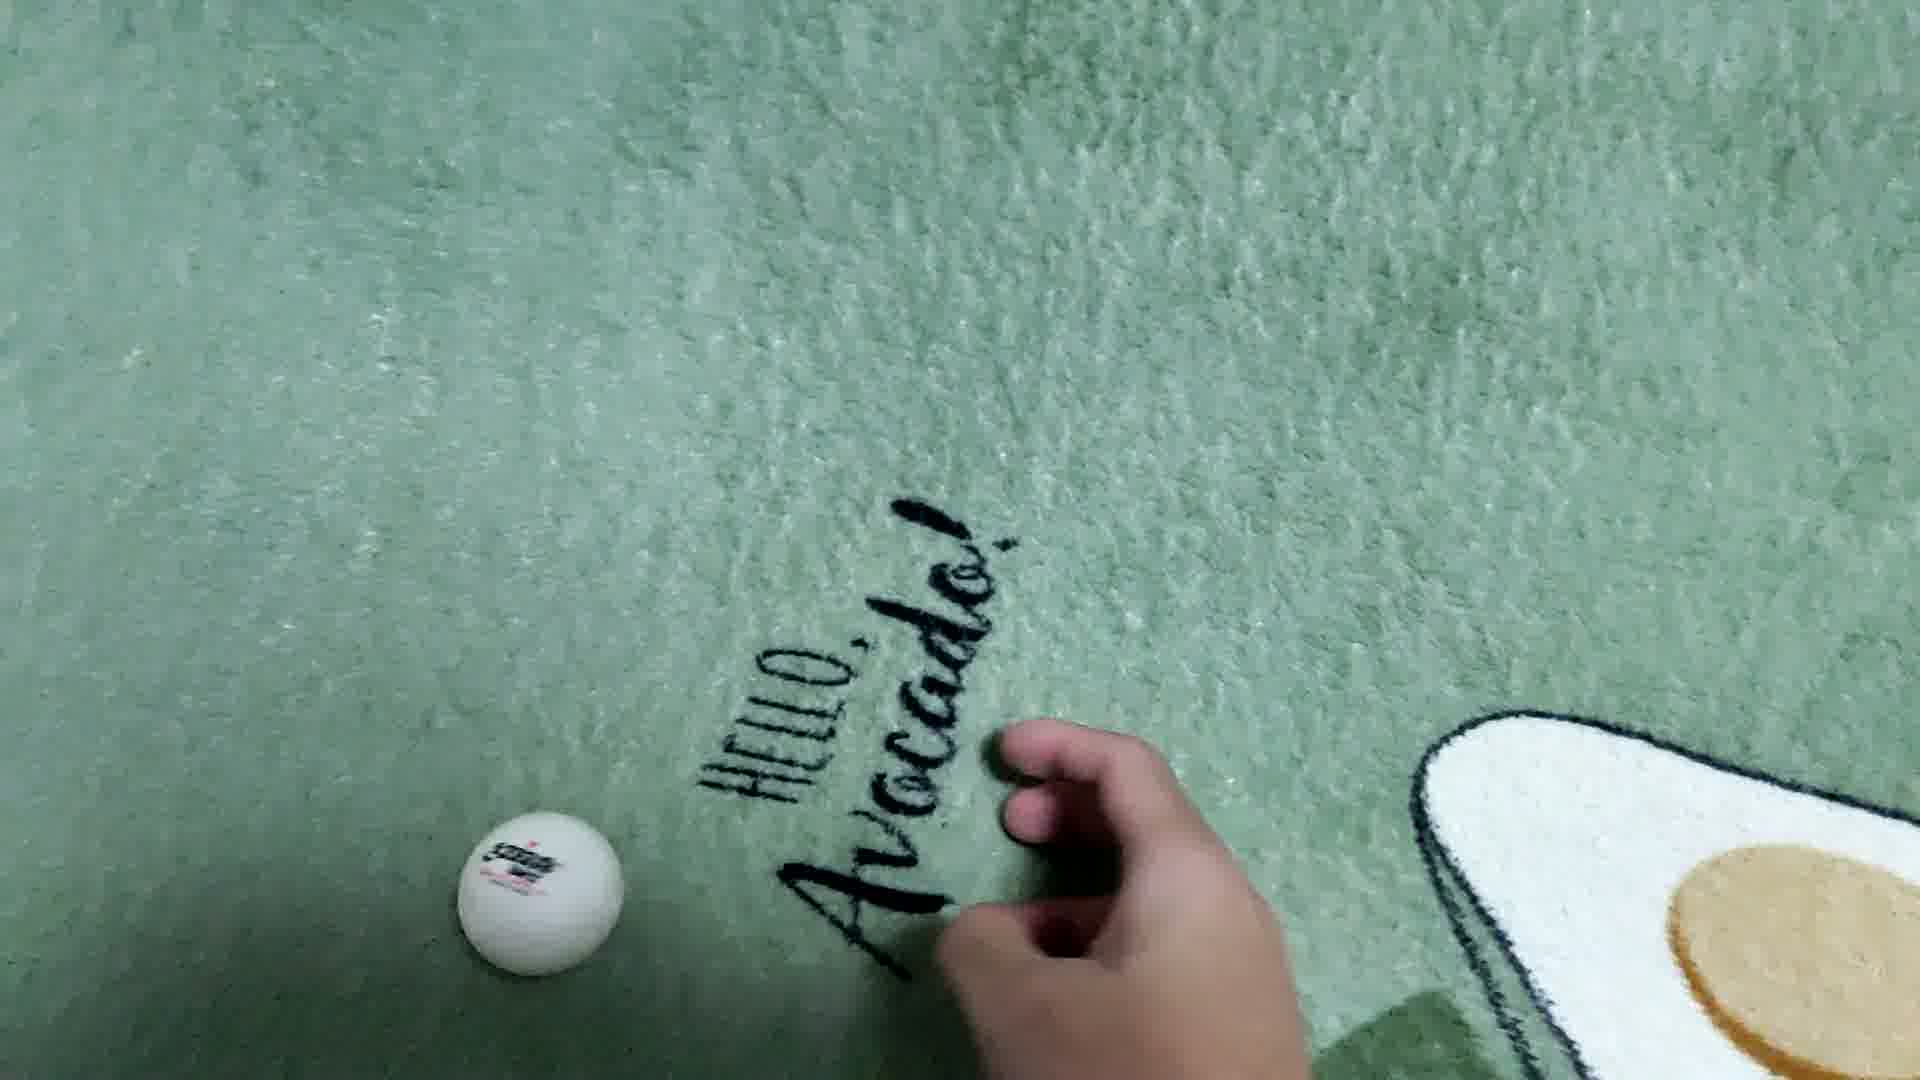Ball: (456, 811, 625, 982)
